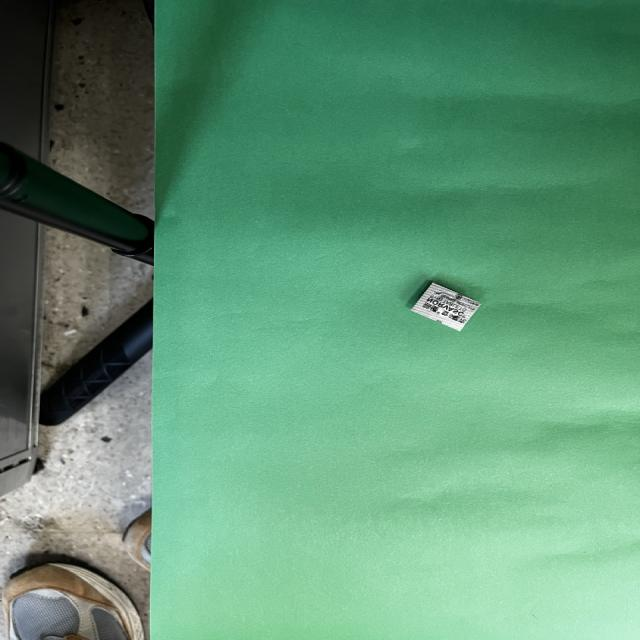Other Objects: (411, 282, 479, 330)
